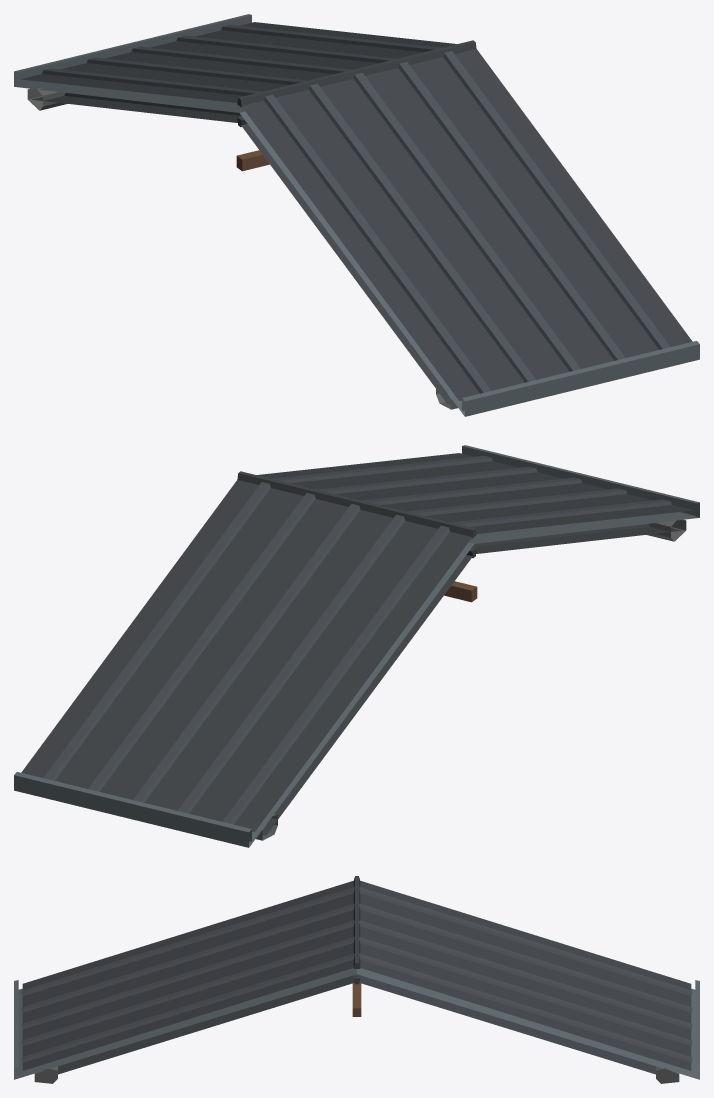
The model's file is SM_Bld_Roof_01.obj.
3 views of the same model, one above another, from view 1: azimuth 30°, elevation 25°; view 2: azimuth 150°, elevation 25°; view 3: azimuth 270°, elevation 25° (orthographic). The views are drawn at different scales.
Parts seen in each view (by area): view 1: SM_Bld_Roof_01_0; view 2: SM_Bld_Roof_01_0; view 3: SM_Bld_Roof_01_0.
Boxes of the visible parts, x1=… form: SM_Bld_Roof_01_0: x1=14, y1=14, x2=699, y2=416; SM_Bld_Roof_01_0: x1=14, y1=445, x2=699, y2=847; SM_Bld_Roof_01_0: x1=14, y1=876, x2=699, y2=1083.
Size of the model in its own units: 3 by 1.93 by 9.97.
Materials: 1 (1 with a texture image).
